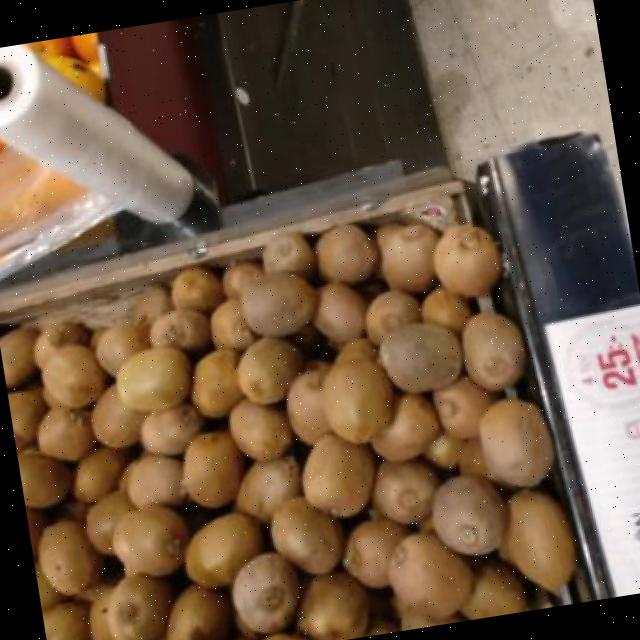kiwi: (500, 490, 577, 590), (388, 532, 473, 618), (321, 359, 394, 443), (479, 399, 552, 483), (302, 433, 373, 517), (185, 512, 264, 587), (231, 551, 301, 633), (270, 496, 343, 574), (434, 476, 505, 553), (380, 324, 460, 390), (112, 506, 187, 576), (432, 225, 502, 296), (298, 571, 370, 640), (116, 345, 191, 411), (38, 519, 102, 594), (461, 315, 524, 391), (183, 430, 244, 507), (371, 393, 439, 460), (344, 517, 408, 587), (107, 574, 174, 640), (243, 273, 316, 333), (41, 343, 108, 408), (237, 455, 301, 521), (373, 458, 438, 522), (237, 338, 302, 402), (229, 398, 293, 461), (461, 559, 527, 620), (433, 375, 496, 438), (377, 223, 437, 289), (166, 584, 231, 640), (286, 364, 331, 444), (316, 225, 378, 281), (191, 349, 242, 415), (93, 383, 145, 447), (140, 402, 203, 454), (127, 454, 187, 508), (37, 406, 95, 460), (315, 283, 366, 342), (18, 451, 72, 505), (95, 323, 151, 375), (366, 290, 419, 344), (87, 491, 133, 553), (76, 446, 127, 501), (150, 307, 211, 350), (33, 321, 88, 368), (262, 232, 316, 275), (420, 286, 471, 331), (8, 389, 45, 450), (211, 299, 256, 348), (0, 329, 37, 387), (173, 266, 223, 308), (42, 601, 88, 640), (134, 283, 172, 323), (222, 260, 263, 297), (425, 431, 464, 467), (90, 588, 117, 640), (35, 563, 64, 609), (334, 337, 377, 363), (458, 438, 487, 476), (26, 509, 47, 558), (400, 612, 463, 628), (54, 501, 90, 520), (75, 583, 113, 601), (235, 612, 259, 639), (390, 594, 415, 617), (121, 459, 138, 491), (365, 621, 398, 636), (43, 387, 63, 405), (417, 515, 435, 532), (262, 633, 304, 640), (91, 327, 105, 348)
